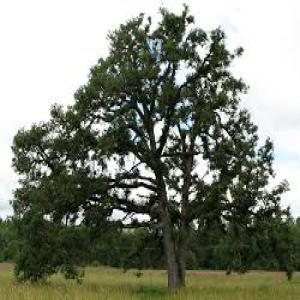Tree: (8, 3, 296, 288)
